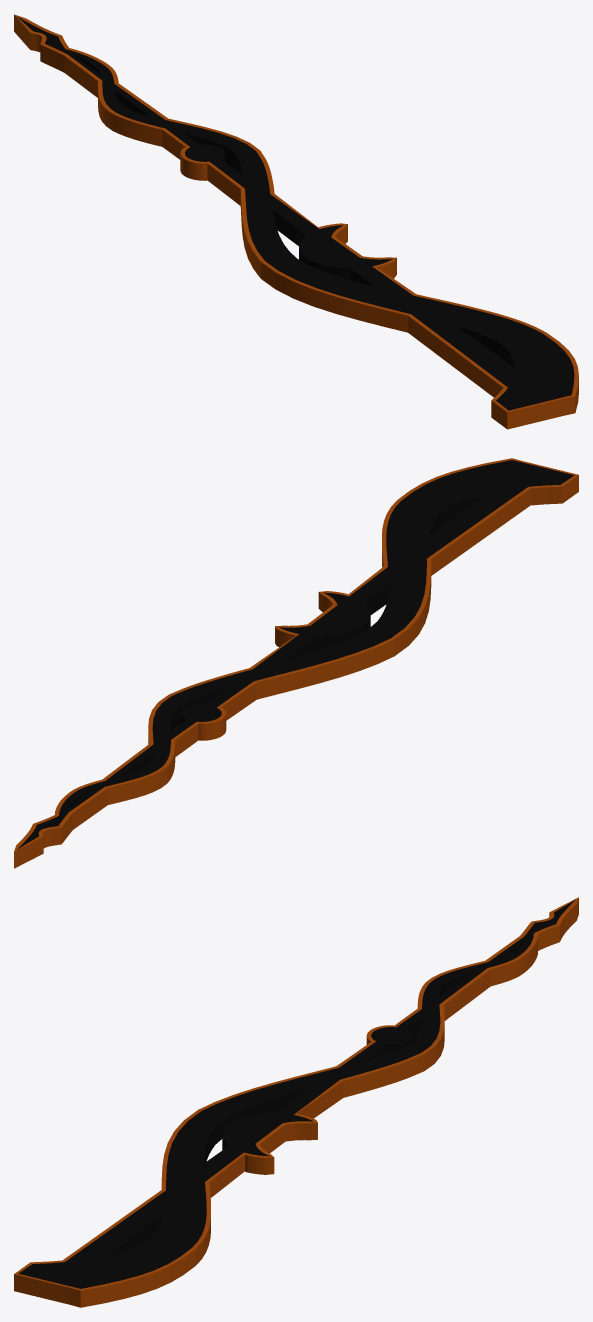
The model's file is Hand.FBX.
The picture shows the model from 3 angles, top to bottom: view 1: azimuth 30°, elevation 25°; view 2: azimuth 150°, elevation 25°; view 3: azimuth 330°, elevation 25°; orthographic projection.
Visible parts, largest first — view 1: Shape1; view 2: Shape1; view 3: Shape1.
Boxes of the visible parts, left/top/right/bottom form: Shape1: left=14, top=14, right=578, bottom=429; Shape1: left=14, top=458, right=578, bottom=868; Shape1: left=14, top=897, right=578, bottom=1307.
Size of the model in its own units: 14.92 by 1.72 by 96.76.
